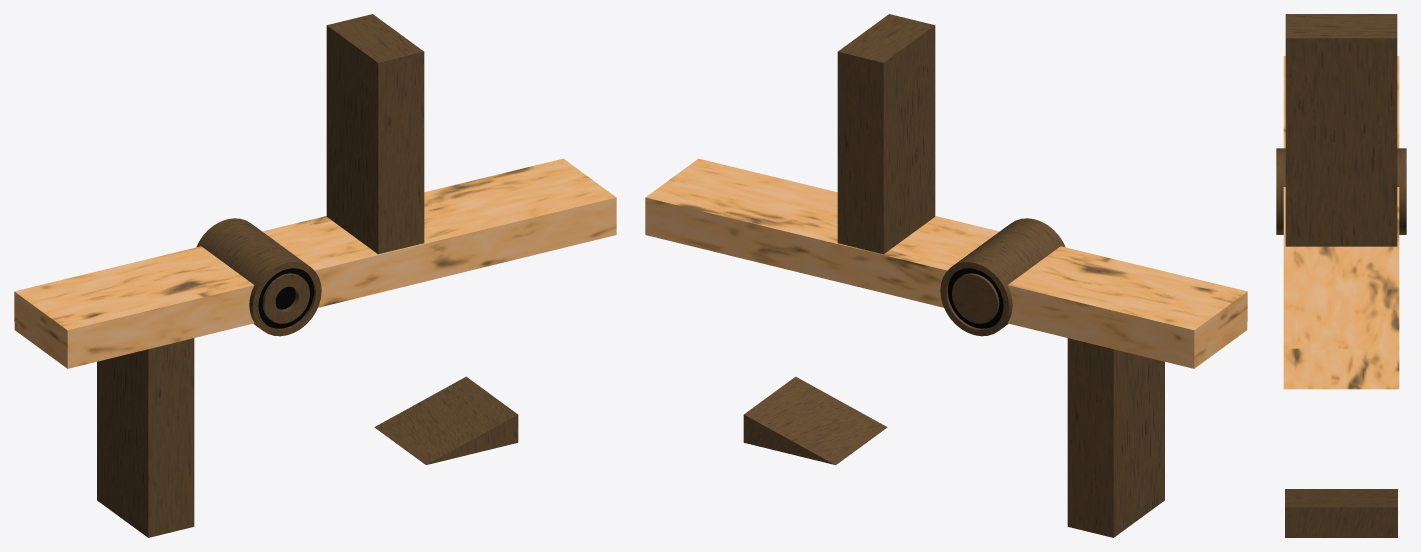
The model's file is level3.fbx.
3 views of the same model, side by side, from view 1: azimuth 30°, elevation 25°; view 2: azimuth 150°, elevation 25°; view 3: azimuth 270°, elevation 25° (orthographic). The views are drawn at different scales.
Parts seen in each view (by area): view 1: SecondFloor.001, Door1, Door2, Interactable.001, Cube.002; view 2: SecondFloor.001, Door1, Door2, Interactable.001, Cube.002; view 3: Door1, SecondFloor.001, Cube.002, Interactable.001.
Part boxes in pixels (<box>): SecondFloor.001: <box>14,158,616,368</box>; Door1: <box>326,14,424,254</box>; Door2: <box>97,338,194,537</box>; Interactable.001: <box>196,218,321,336</box>; Cube.002: <box>374,376,518,464</box>; SecondFloor.001: <box>645,158,1247,368</box>; Door1: <box>837,14,935,254</box>; Door2: <box>1067,338,1164,537</box>; Interactable.001: <box>940,218,1065,336</box>; Cube.002: <box>743,376,887,464</box>; Door1: <box>1285,14,1397,246</box>; SecondFloor.001: <box>1283,56,1399,389</box>; Cube.002: <box>1285,489,1397,537</box>; Interactable.001: <box>1276,148,1406,234</box>.
Size of the model in its own units: 2385 by 1739 by 450.
